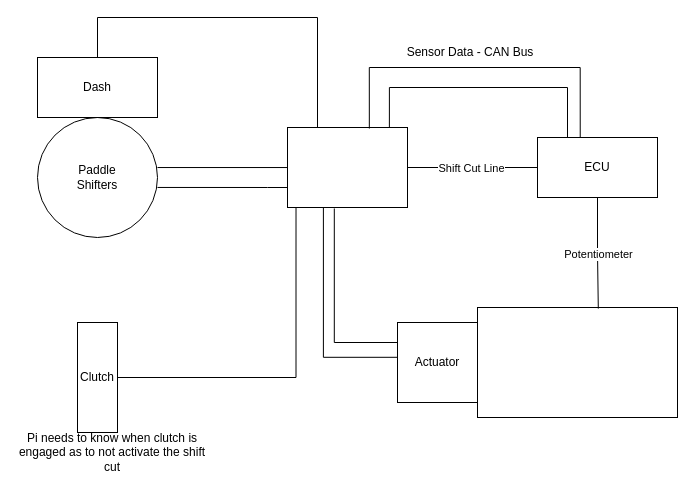
Image size: 695x491. Some labels were removed from this diagram. The shapes that lost their labels are listed below. From the top down, each one's centre as x and y in pixels, then its label:
the point at 347,167: Raspberry Pi
the point at 577,362: Gearbox
